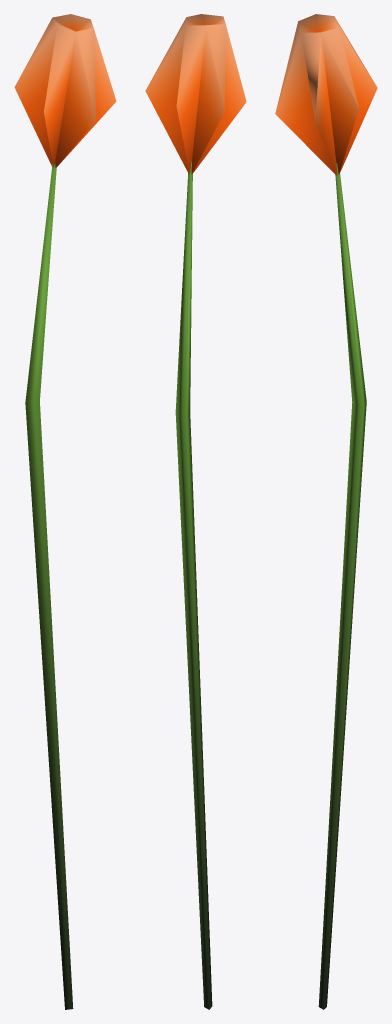
The model's file is Flower_3G.fbx.
3 views of the same model, side by side, from view 1: azimuth 90°, elevation 25°; view 2: azimuth 150°, elevation 25°; view 3: azimuth 270°, elevation 25° (orthographic).
Visible parts, largest first — view 1: Flower_3G; view 2: Flower_3G; view 3: Flower_3G.
Boxes of the visible parts, x1=… form: Flower_3G: x1=14, y1=14, x2=116, y2=1009; Flower_3G: x1=145, y1=14, x2=246, y2=1009; Flower_3G: x1=275, y1=14, x2=377, y2=1009.
Size of the model in its own units: 5.13 by 58.23 by 5.46.
